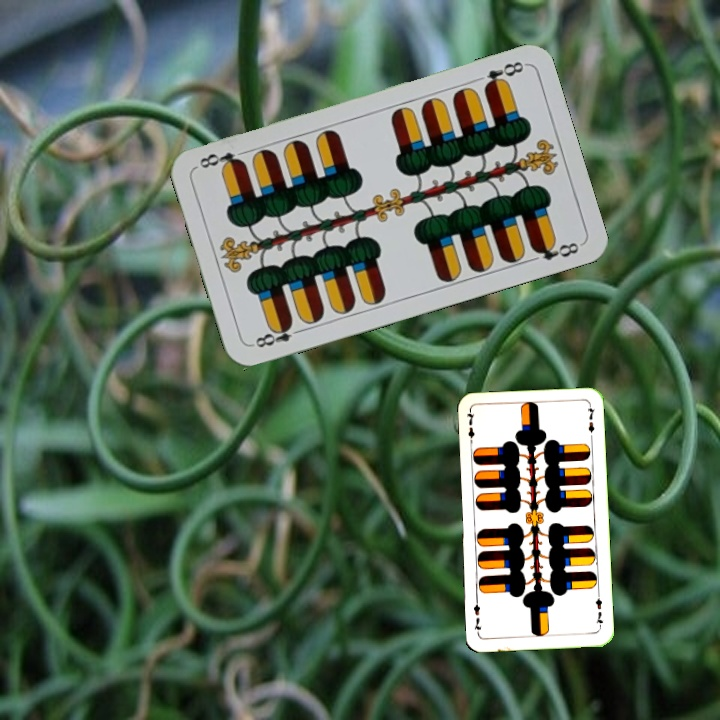E7: (592, 590, 606, 631), (463, 407, 477, 448)
E8: (248, 318, 306, 350), (480, 57, 527, 92)
